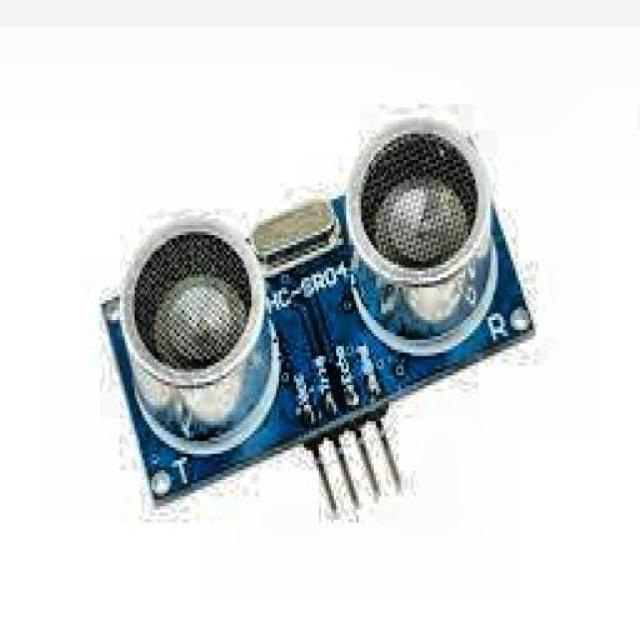Ultrasonic Sensor: (63, 76, 587, 567)
